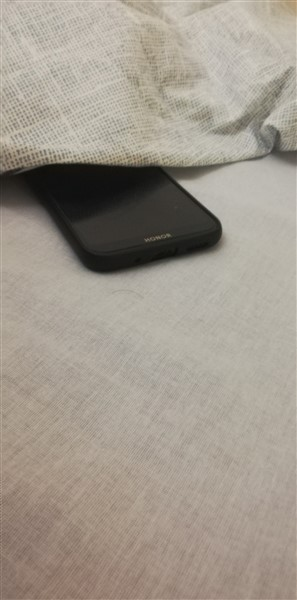telefon: (13, 159, 234, 278)
